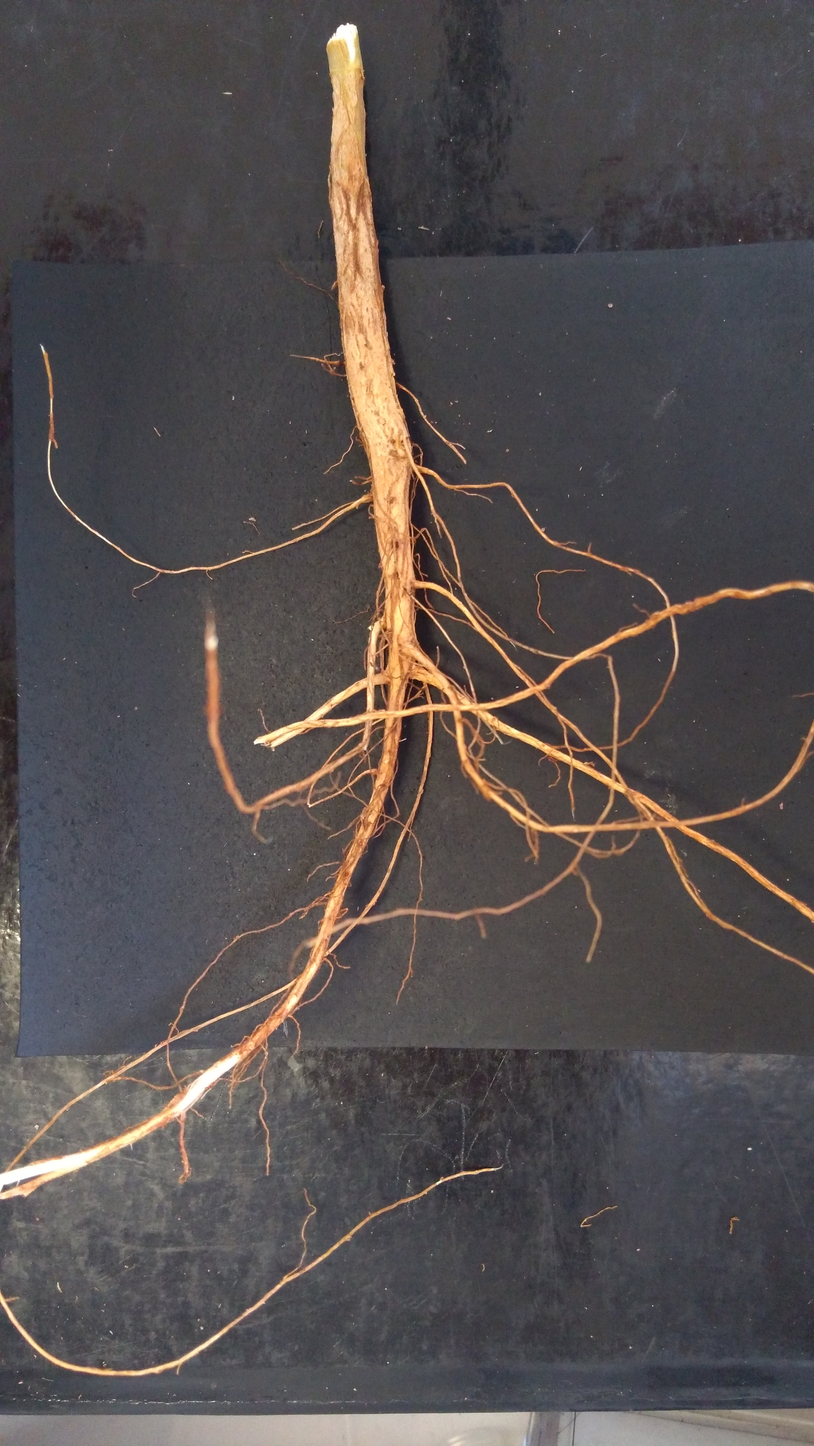nodule: (164, 1092, 189, 1119), (583, 761, 595, 767), (331, 280, 338, 290), (367, 625, 374, 631), (390, 358, 395, 365), (380, 284, 385, 290), (607, 303, 613, 308), (439, 1177, 444, 1181), (392, 371, 395, 376)
